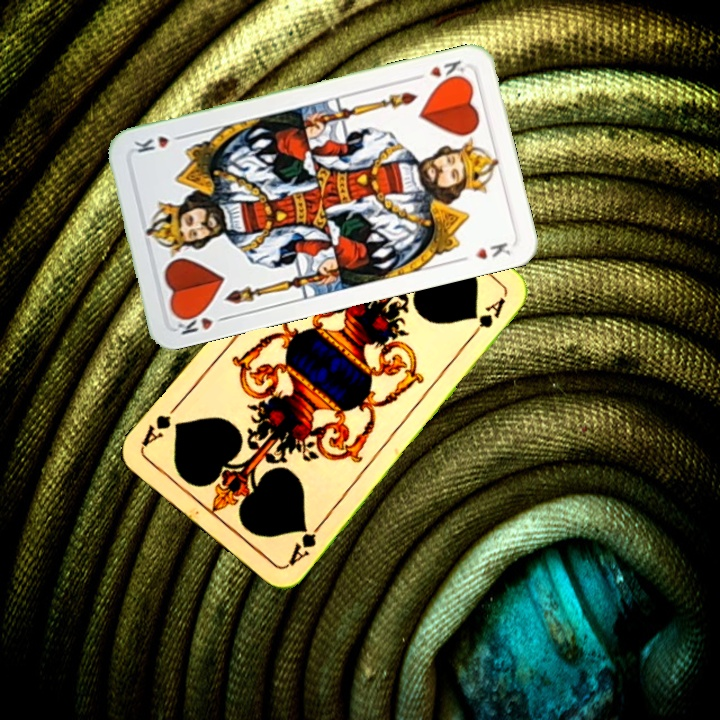GA: (283, 518, 325, 569)
HK: (172, 306, 232, 338), (410, 56, 467, 86)
